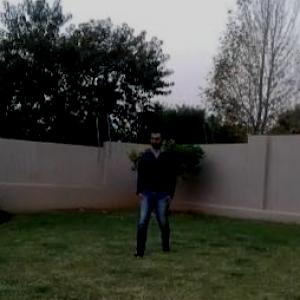follow: (134, 124, 174, 257)
